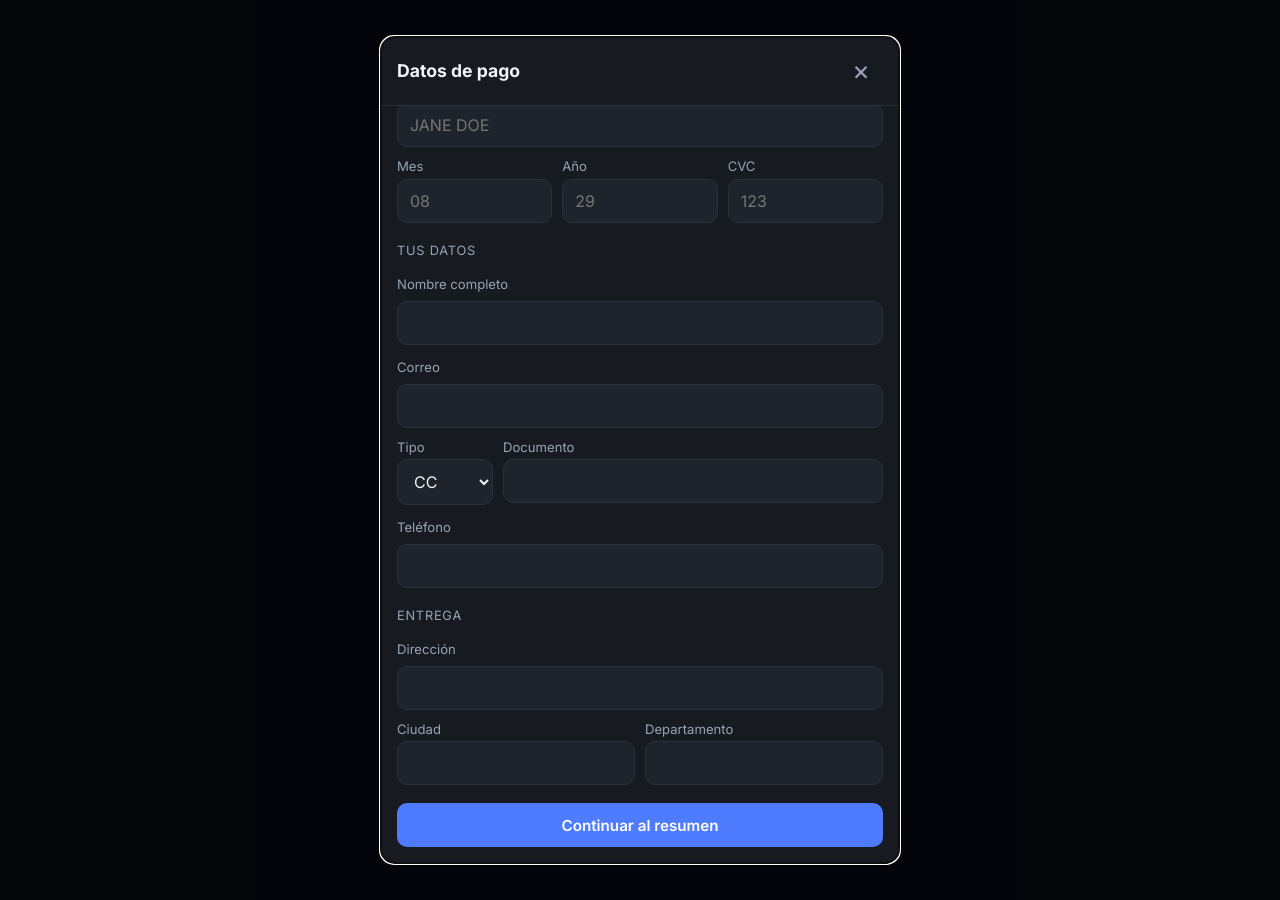
Test: PaymentModal › warns how many fields are wrong
(page scrolled)
Step 1. Click the button "Continuar al resumen" → (640, 825), box [397,803,883,847]
(page scrolled)
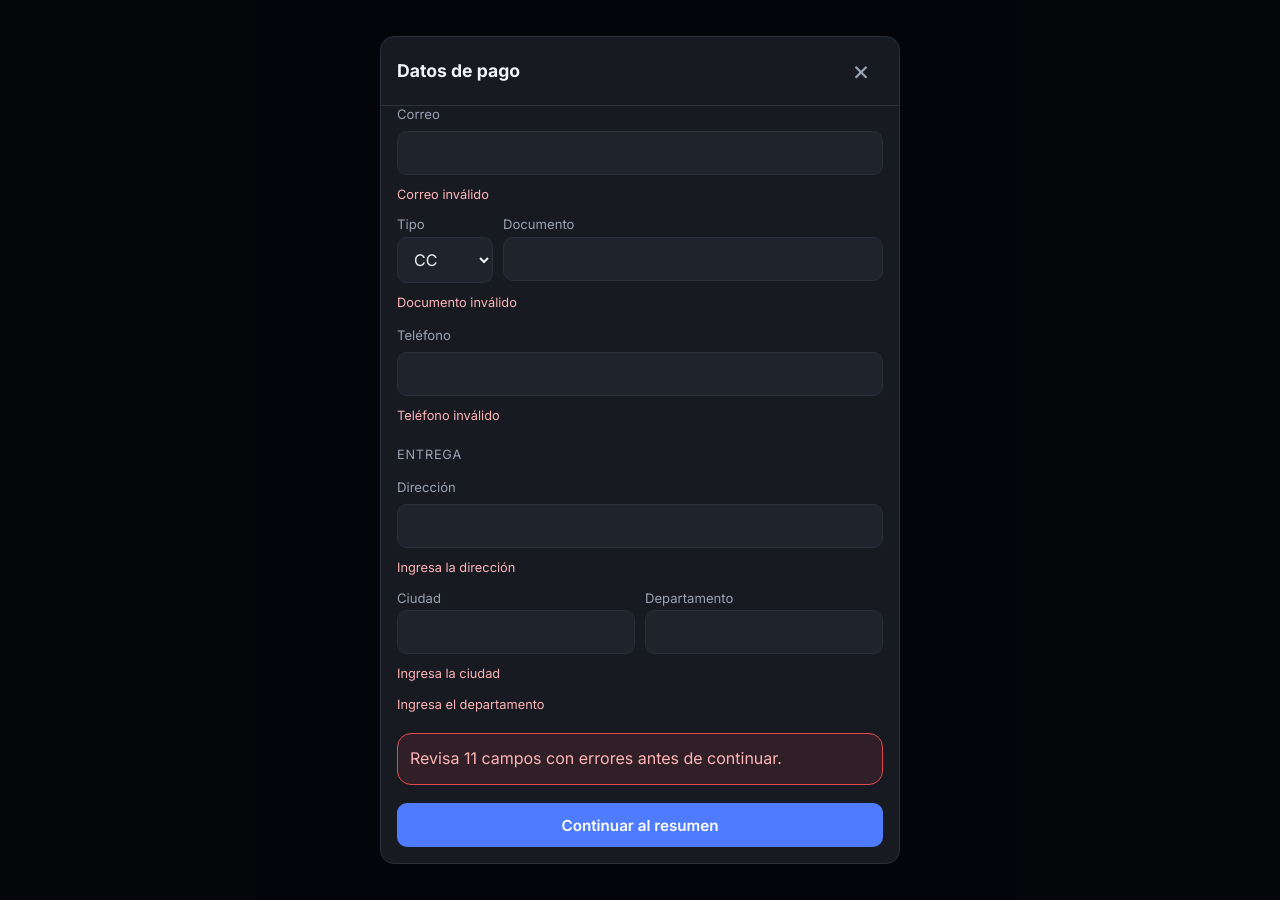
Expected: the message shows "campos con errores", [397,733,883,785]
